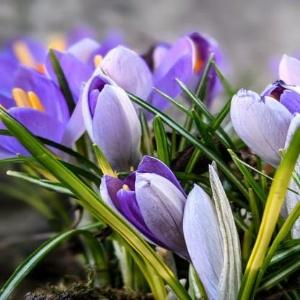Saffron: (92, 156, 238, 286), (83, 75, 148, 177), (229, 85, 300, 169)
